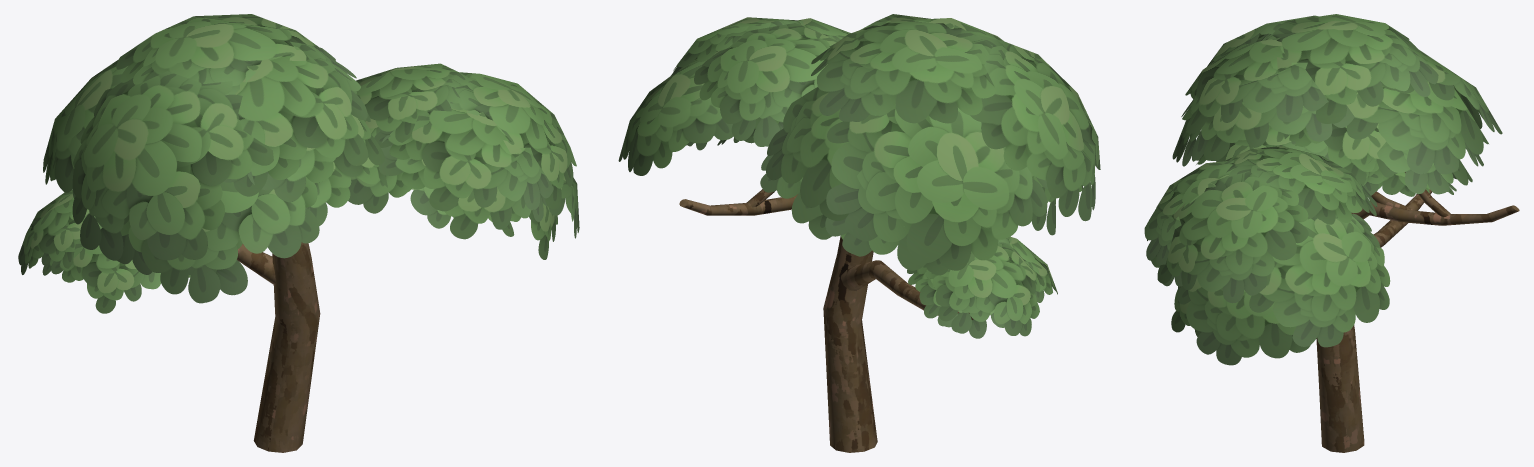
File: Tree_7.gltf
3 views of the same model, side by side, from view 1: azimuth 30°, elevation 25°; view 2: azimuth 150°, elevation 25°; view 3: azimuth 270°, elevation 25° (orthographic). The views are drawn at different scales.
Visible parts, largest first — view 1: Tree_9; view 2: Tree_9; view 3: Tree_9.
Part boxes in pixels (<box>): Tree_9: <box>18,14,579,452</box>; Tree_9: <box>618,14,1100,452</box>; Tree_9: <box>1144,14,1519,452</box>.
Size of the model in its own units: 6.36 by 5.49 by 4.94.
2 materials, 2 textured.
